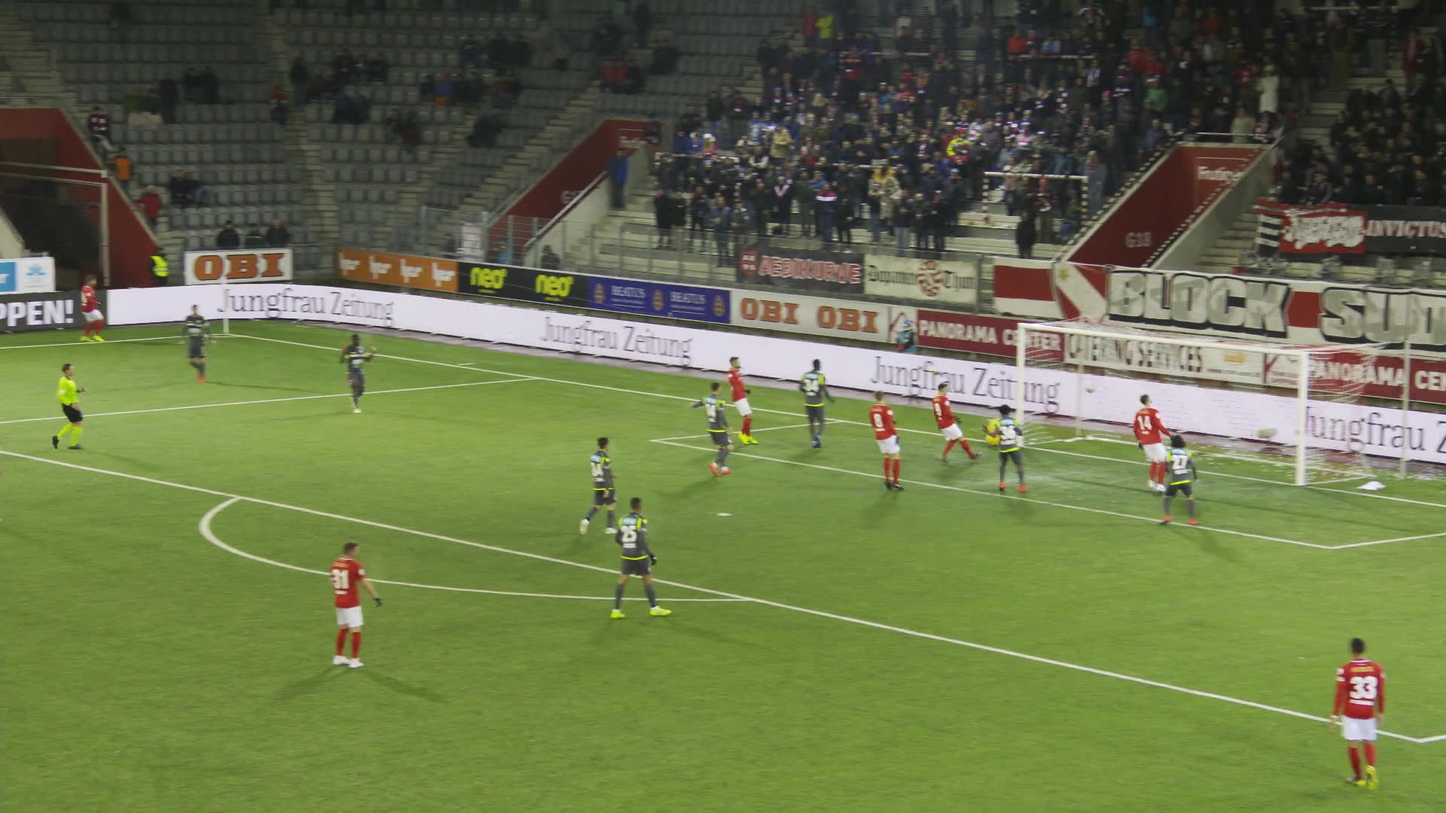ball: (1092, 388, 1104, 397)
player: (1341, 638, 1395, 790), (609, 498, 672, 617), (325, 541, 382, 666), (1137, 397, 1182, 495), (688, 382, 734, 474), (1156, 434, 1202, 524), (583, 437, 625, 534), (936, 383, 986, 464), (985, 406, 1027, 492), (872, 392, 907, 489), (346, 333, 388, 410), (807, 360, 843, 449), (731, 355, 761, 446), (180, 305, 214, 382), (79, 276, 106, 343), (990, 410, 1026, 451), (0, 443, 11, 521)
referee: (49, 362, 90, 452)
